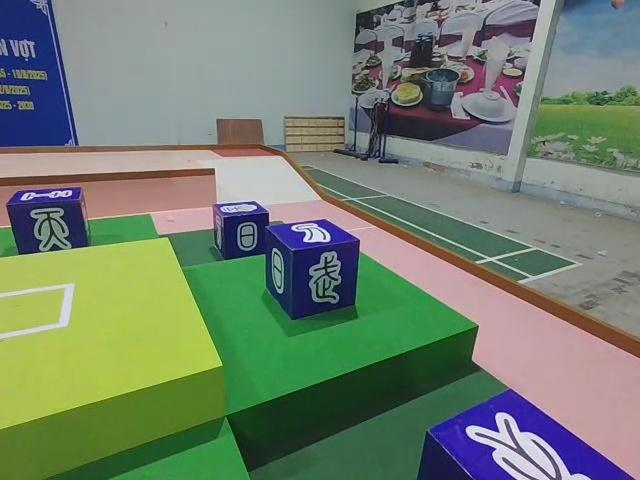R2 Fake Blue: (410, 387, 639, 480), (262, 221, 359, 322), (4, 187, 89, 257), (209, 201, 268, 262)
